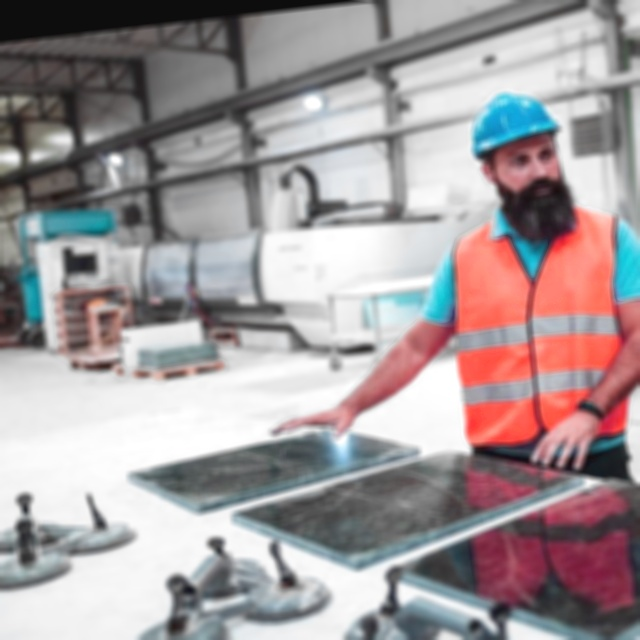Con_Casco: (463, 86, 574, 215)
Con_Chaleco: (441, 202, 637, 459)
